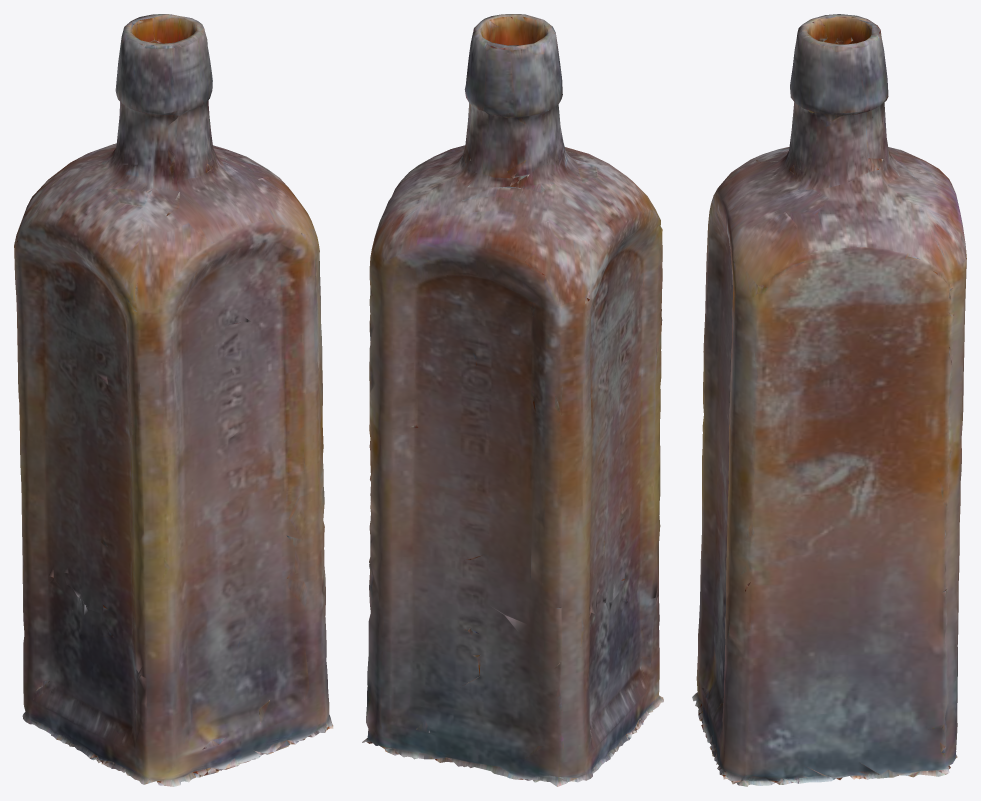
The model's file is vase_2d0dc184_visual.obj.
3 renders of one model, left to right at view 1: azimuth 30°, elevation 25°; view 2: azimuth 150°, elevation 25°; view 3: azimuth 270°, elevation 25°, orthographic.
Size of the model in its own units: 0.087 by 0.2501 by 0.0887.
Materials: 1 (1 with a texture image).
